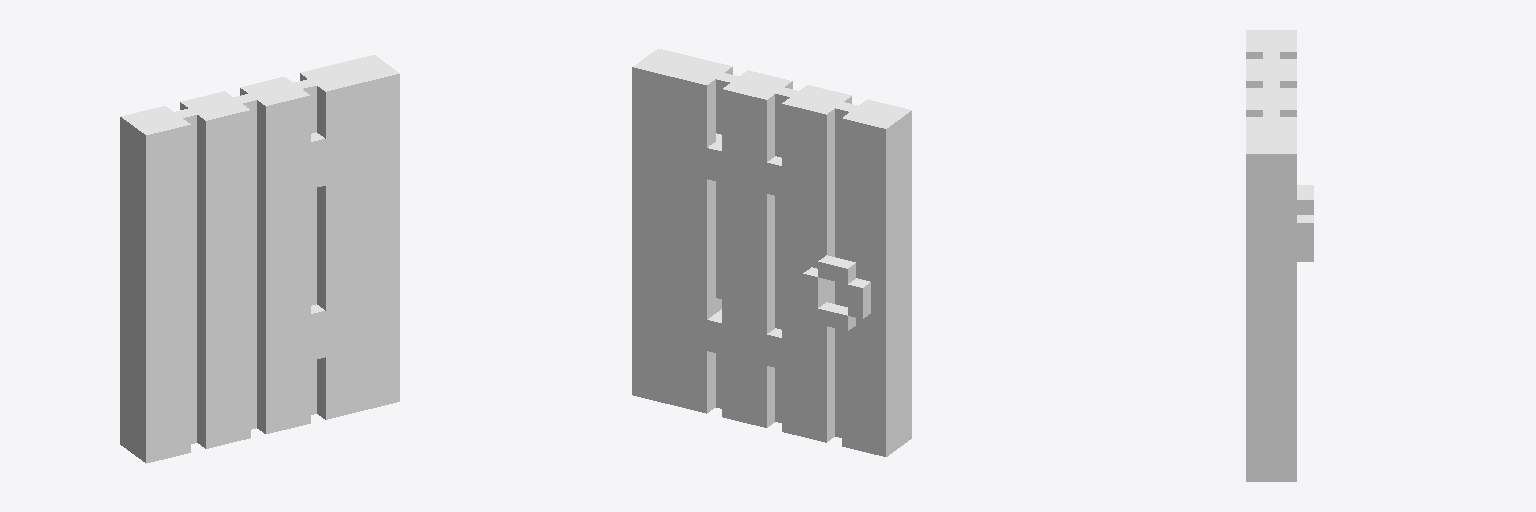
Rendered from Exit_Portal_Door.obj.
3 views of the same model, side by side, from view 1: azimuth 30°, elevation 25°; view 2: azimuth 150°, elevation 25°; view 3: azimuth 270°, elevation 25° (orthographic).
Parts seen in each view (by area): view 1: object 1; view 2: object 1; view 3: object 1.
Part boxes in pixels (left/top/right/bottom): object 1: left=120, top=55, right=399, bottom=463; object 1: left=632, top=48, right=911, bottom=456; object 1: left=1246, top=30, right=1313, bottom=481.
Size of the model in its own units: 1.7 by 2.1 by 0.4.